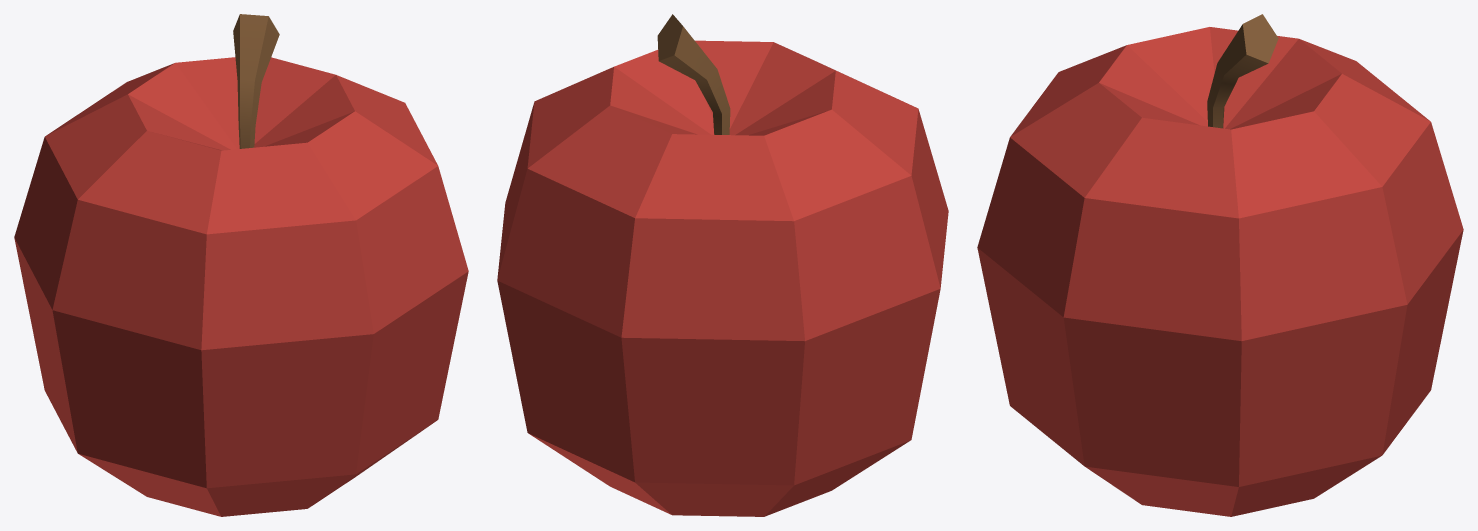
File: Apple.fbx
3 renders of one model, left to right at view 1: azimuth 30°, elevation 25°; view 2: azimuth 150°, elevation 25°; view 3: azimuth 270°, elevation 25°, orthographic. The views are drawn at different scales.
Visible parts, largest first — view 1: Apple; view 2: Apple; view 3: Apple.
Boxes of the visible parts, x1=… form: Apple: x1=14, y1=14, x2=468, y2=516; Apple: x1=497, y1=14, x2=948, y2=516; Apple: x1=977, y1=14, x2=1463, y2=516.
Bounding box in the file's own units: 9 × 9.42 × 9.
